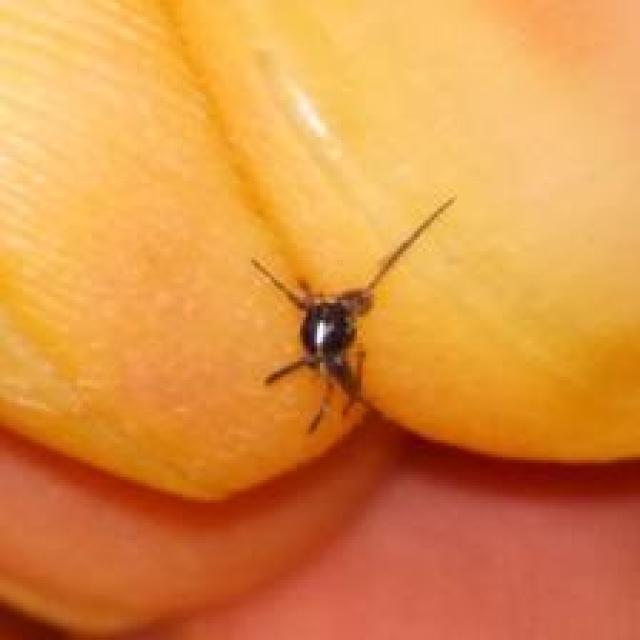Aedes albopictus: (249, 193, 457, 436)
